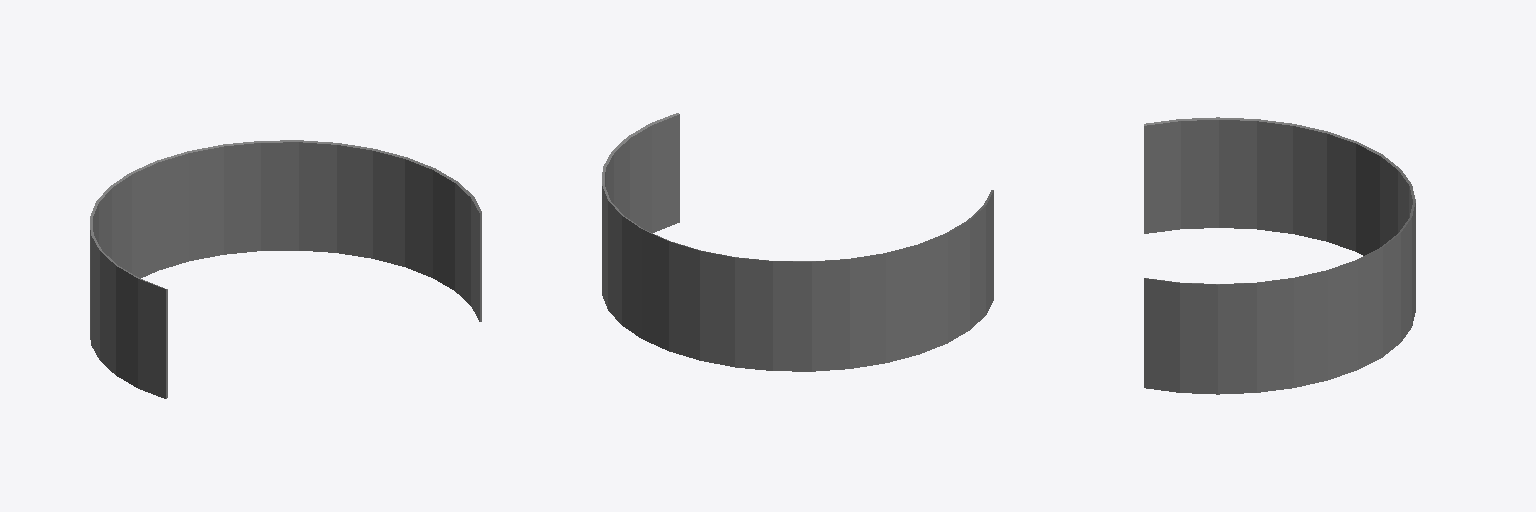
The model's file is videoWall.obj.
3 renders of one model, left to right at view 1: azimuth 30°, elevation 25°; view 2: azimuth 150°, elevation 25°; view 3: azimuth 270°, elevation 25°, orthographic.
Visible parts, largest first — view 1: Circle.003; view 2: Circle.003; view 3: Circle.003.
Boxes of the visible parts, x1,y1,x2,y2 form: Circle.003: [90, 140, 481, 398]; Circle.003: [602, 113, 993, 371]; Circle.003: [1144, 117, 1415, 394].
Size of the model in its own units: 9.94 by 3.05 by 6.83.